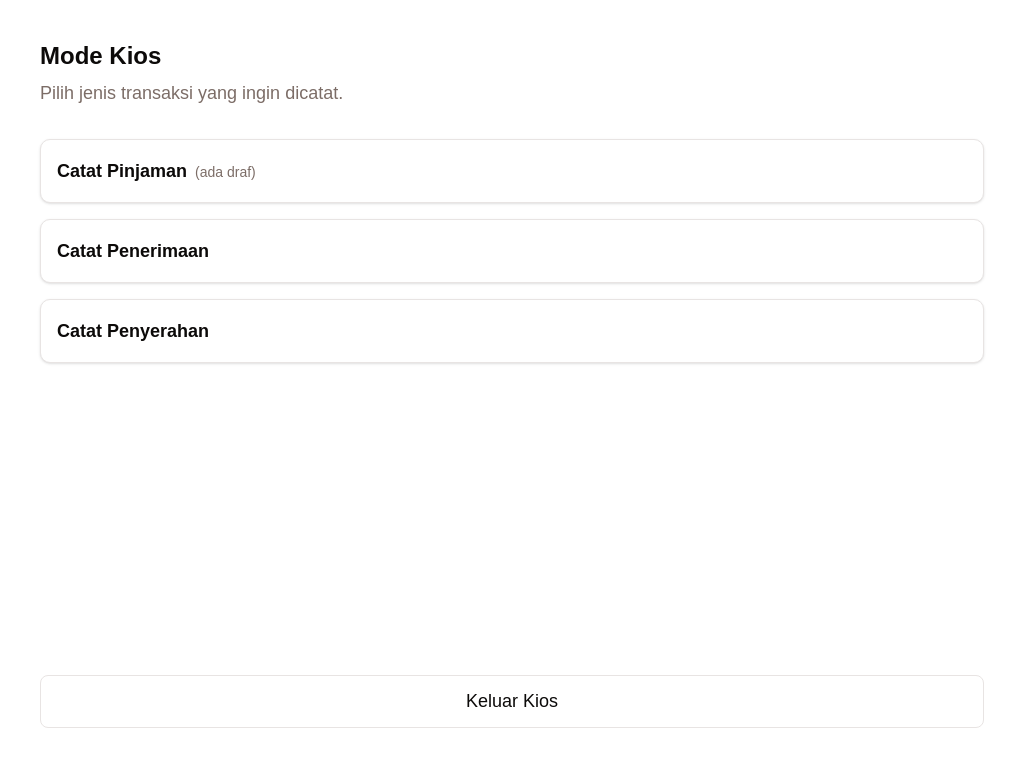
Test: KioskTypeSelect › resume prompt when draft exists — Requirement 5.6 › 'Batal' in the resume prompt closes it without taking action
This screenshot has width=1024, height=768.
Click the text "Catat Pinjaman" at {"x": 122, "y": 171}, box [57,161,187,181]
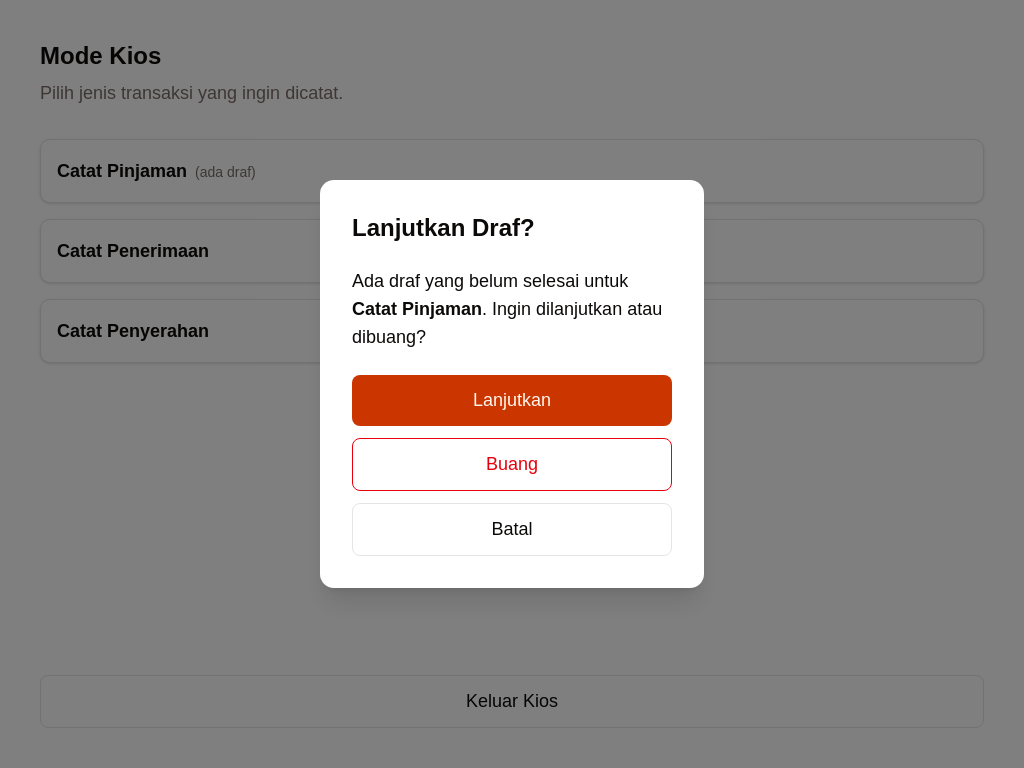
Check: the button "Batal" is shown
Click the button "Batal" at {"x": 512, "y": 530}, box [352,503,672,556]
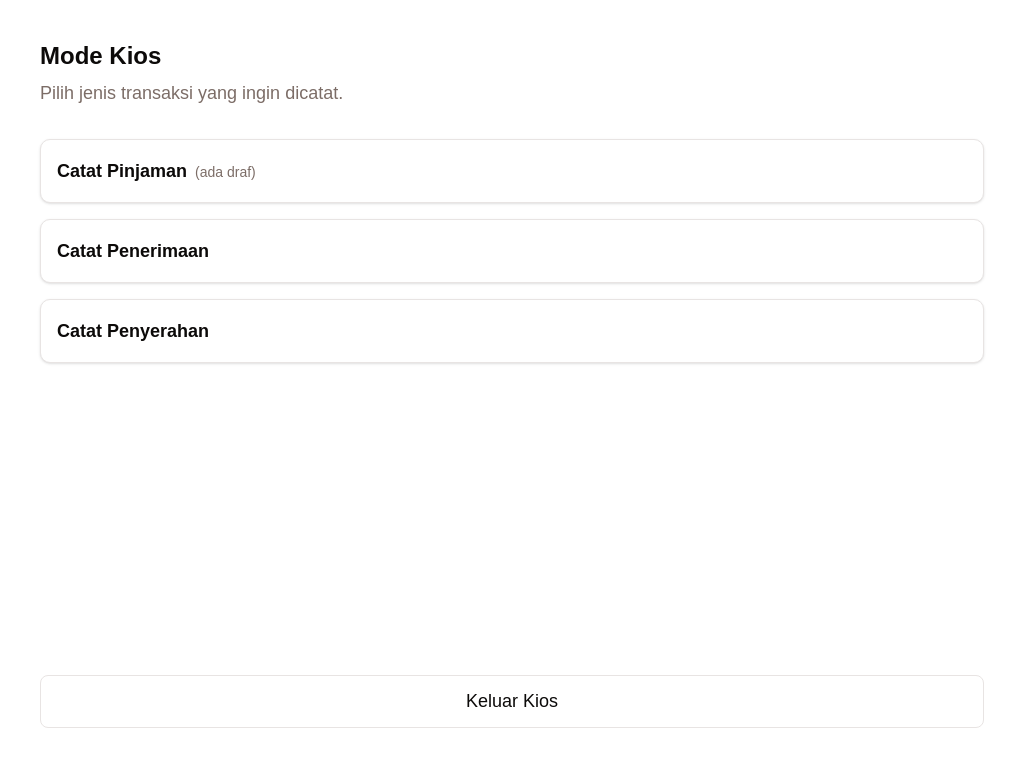
Check: the dialog is gone
